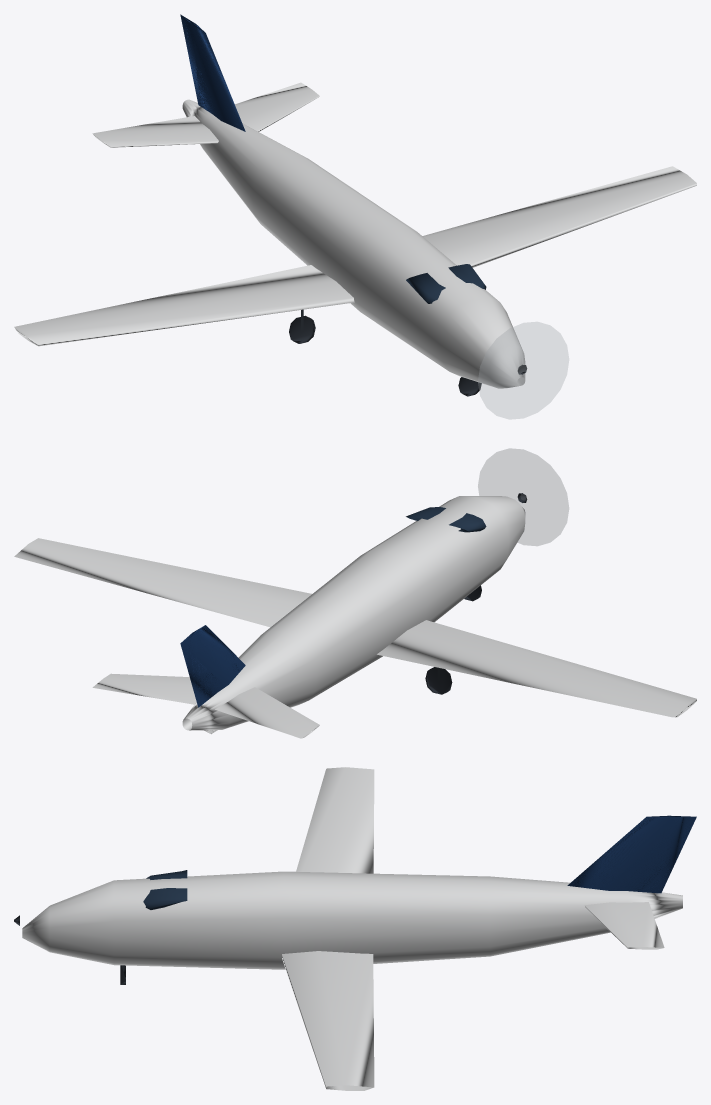
3 views of the same model, one above another, from view 1: azimuth 30°, elevation 25°; view 2: azimuth 150°, elevation 25°; view 3: azimuth 270°, elevation 25° (orthographic).
Parts seen in each view (by area): view 1: n864rj-pc12; view 2: n864rj-pc12; view 3: n864rj-pc12.
Boxes of the visible parts, x1,y1,x2,y2 form: n864rj-pc12: (14,14,696,419); n864rj-pc12: (14,448,696,738); n864rj-pc12: (14,767,696,1090).
Size of the model in its own units: 16.4 by 4.09 by 14.89.
